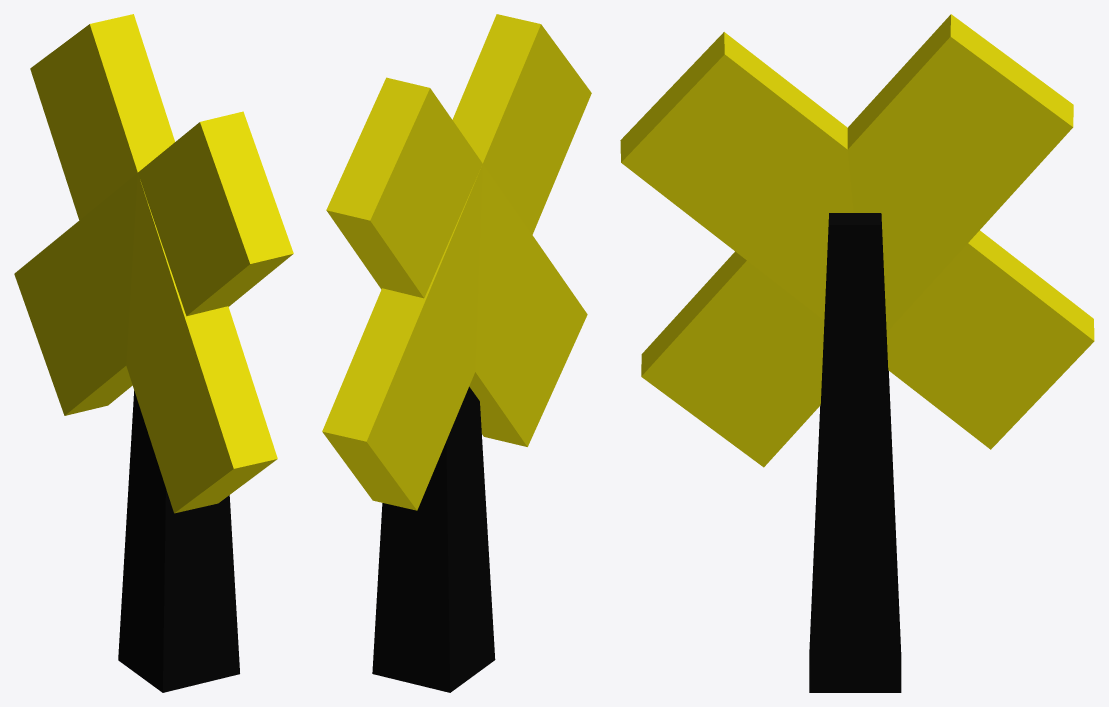
The model's file is кусеронес.fbx.
3 renders of one model, left to right at view 1: azimuth 30°, elevation 25°; view 2: azimuth 150°, elevation 25°; view 3: azimuth 270°, elevation 25°, orthographic. The views are drawn at different scales.
Visible parts, largest first — view 1: Cube.001, Cube.005, Cube; view 2: Cube.005, Cube.001, Cube; view 3: Cube.005, Cube.001, Cube.
Boxes of the visible parts, x1=… form: Cube.001: x1=30, y1=14, x2=277, y2=513; Cube.005: x1=14, y1=111, x2=293, y2=415; Cube: x1=118, y1=390, x2=239, y2=692; Cube.005: x1=322, y1=14, x2=591, y2=510; Cube.001: x1=326, y1=77, x2=587, y2=446; Cube: x1=372, y1=386, x2=495, y2=692; Cube.005: x1=620, y1=32, x2=1094, y2=449; Cube.001: x1=641, y1=14, x2=1073, y2=467; Cube: x1=809, y1=213, x2=901, y2=692.
Bounding box in the file's own units: 41.15 × 278 × 187.
